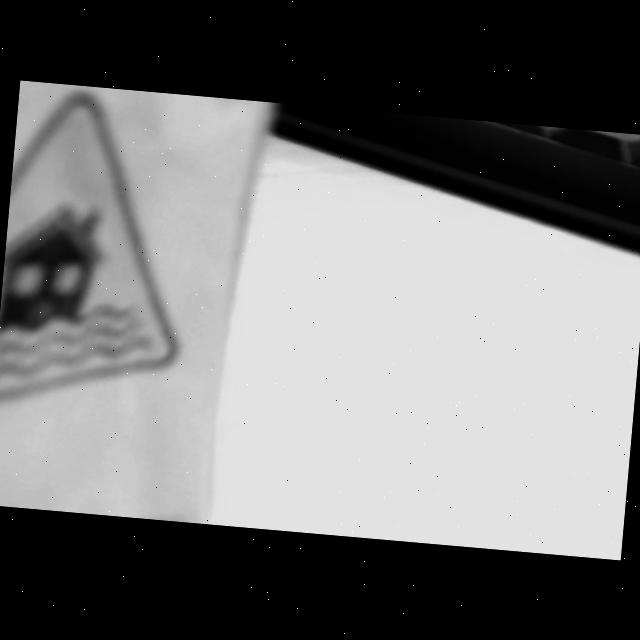Tsunami: (0, 94, 159, 395)
